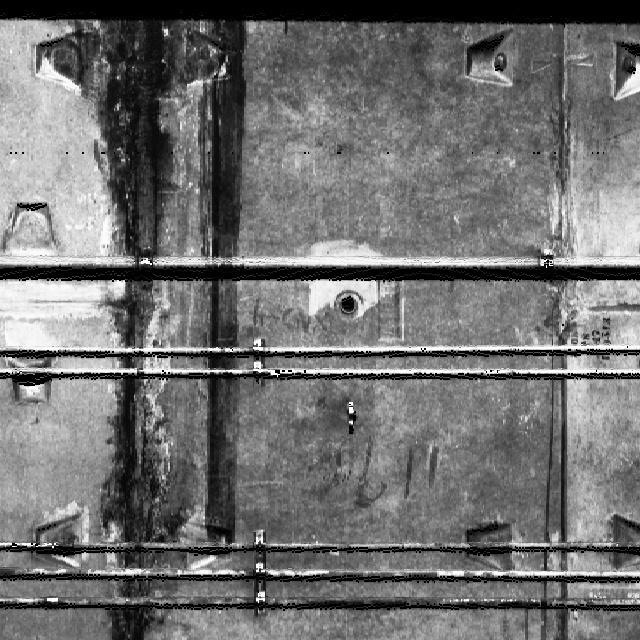leakage: (61, 9, 198, 637), (198, 11, 248, 560)
